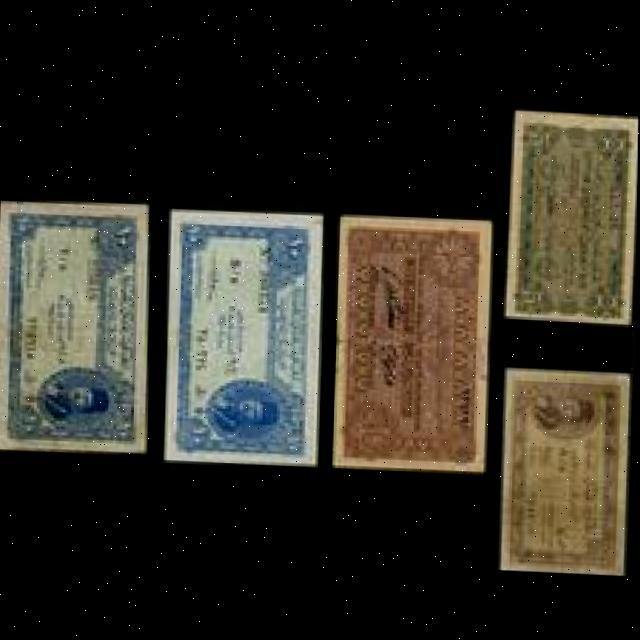banknote: (330, 208, 497, 472), (161, 201, 328, 465), (0, 195, 157, 455), (502, 103, 639, 322), (498, 360, 635, 571)
